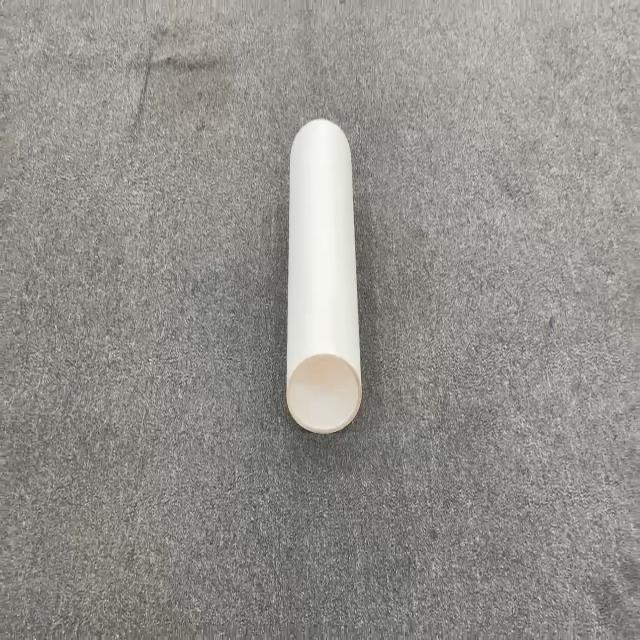coral: (285, 116, 363, 434)
